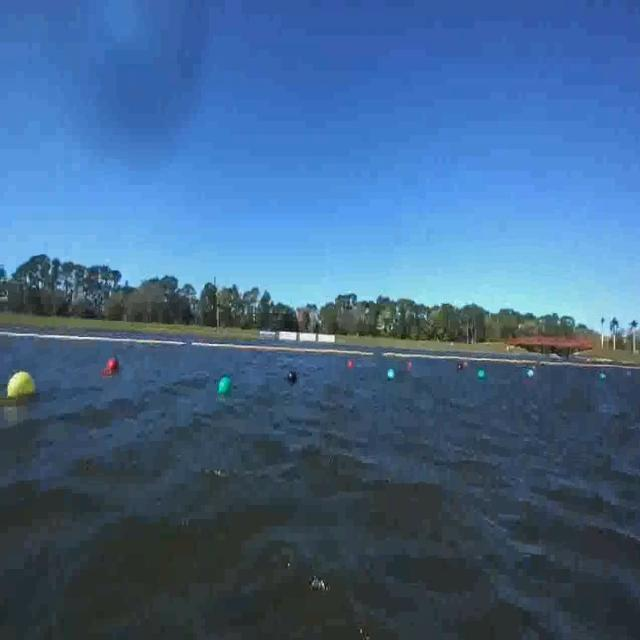black-buoy: (287, 371, 297, 386)
green-buoy: (218, 374, 233, 393), (385, 366, 393, 380), (479, 368, 487, 380)
red-buoy: (108, 358, 119, 372)
yellow-buoy: (7, 369, 35, 397)
